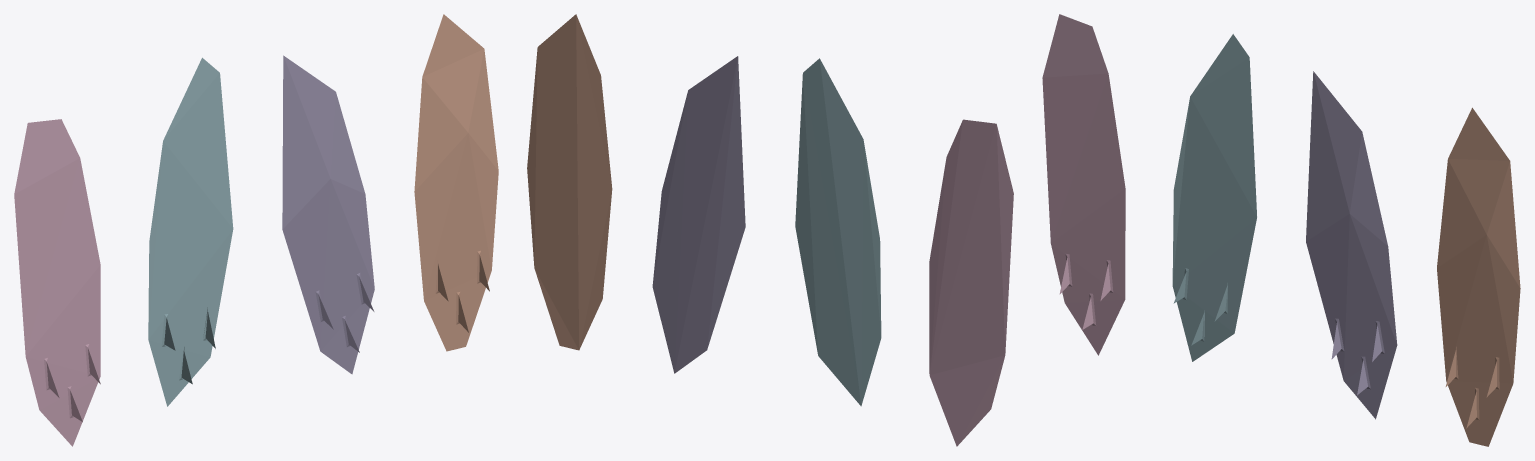
Rendered from surfboards.lod2.glb.
The picture shows the model from 3 angles, left to right: view 1: azimuth 30°, elevation 25°; view 2: azimuth 150°, elevation 25°; view 3: azimuth 330°, elevation 25°; orthographic projection.
Visible parts, largest first — view 1: Surfboard_02_Surfboard_02_0; view 2: Surfboard_02_Surfboard_02_0; view 3: Surfboard_02_Surfboard_02_0.
Part boxes in pixels (box(x1,y1,x2,y2)): Surfboard_02_Surfboard_02_0: box(14, 14, 498, 446); Surfboard_02_Surfboard_02_0: box(527, 14, 1013, 446); Surfboard_02_Surfboard_02_0: box(1042, 14, 1520, 446).
Size of the model in its own units: 2.92 by 2.05 by 0.1755.
